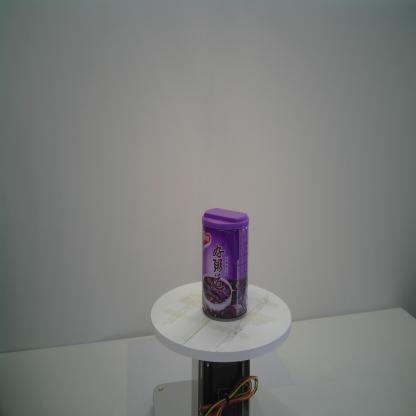Canned Food: (200, 208, 249, 322)
